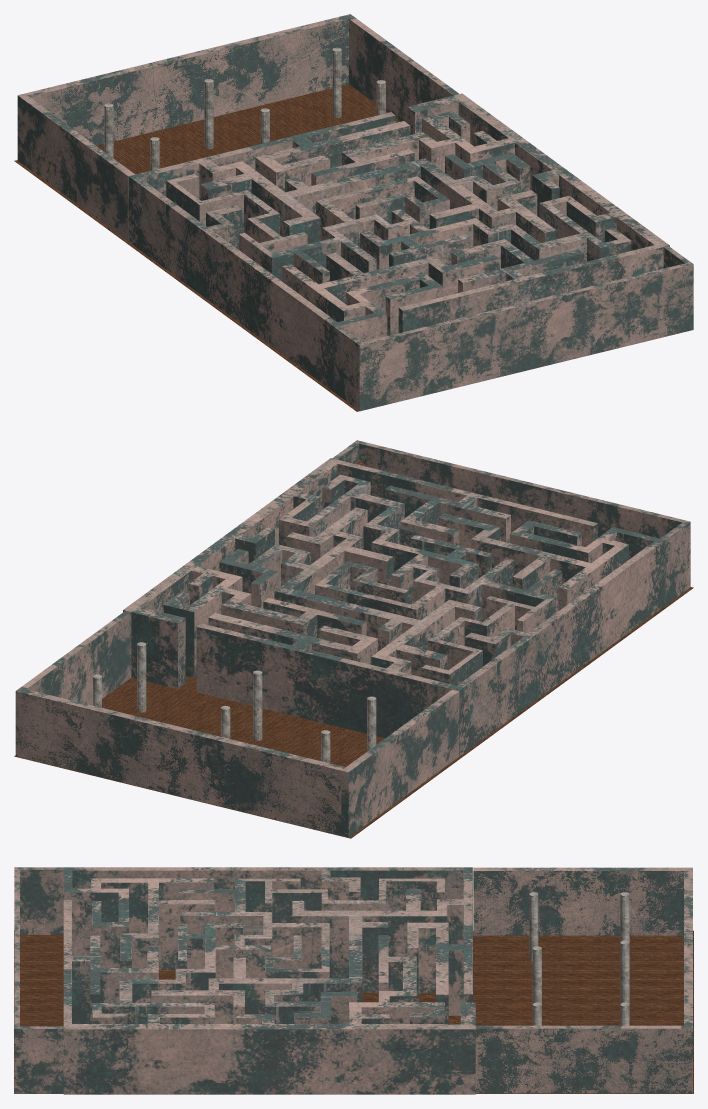
Rendered from sotano.fbx.
3 renders of one model, top to bottom at view 1: azimuth 30°, elevation 25°; view 2: azimuth 150°, elevation 25°; view 3: azimuth 270°, elevation 25°, orthographic.
Parts seen in each view (by area): view 1: Laberinto, paredSala, paredEscaleras, Plane, Columna.003, Columna.002; view 2: Laberinto, paredSala, Plane, paredEscaleras, Columna.004, Columna.005; view 3: Laberinto, paredSala, Plane, paredEscaleras, Columna.002, Columna, Columna.005, Columna.001.
Part boxes in pixels (x1,y1,x2,y2): Laberinto: (128,93,669,391); paredSala: (17,14,458,241); paredEscaleras: (334,246,693,411); Plane: (14,84,687,411); Columna.003: (332,47,341,117); Columna.002: (204,79,213,149); Laberinto: (123,458,665,756); paredSala: (15,611,459,837); Plane: (14,587,693,838); paredEscaleras: (332,440,690,604); Columna.004: (137,642,146,712); Columna.005: (253,670,262,740); Laberinto: (63,867,475,1094); paredSala: (473,867,692,1093); Plane: (14,930,693,1093); paredEscaleras: (14,867,64,1093); Columna.002: (620,940,629,1003); Columna: (529,892,538,961); Columna.005: (532,946,541,1003); Columna.001: (620,892,629,941).
Size of the model in its own units: 2107 by 401 by 3700.
